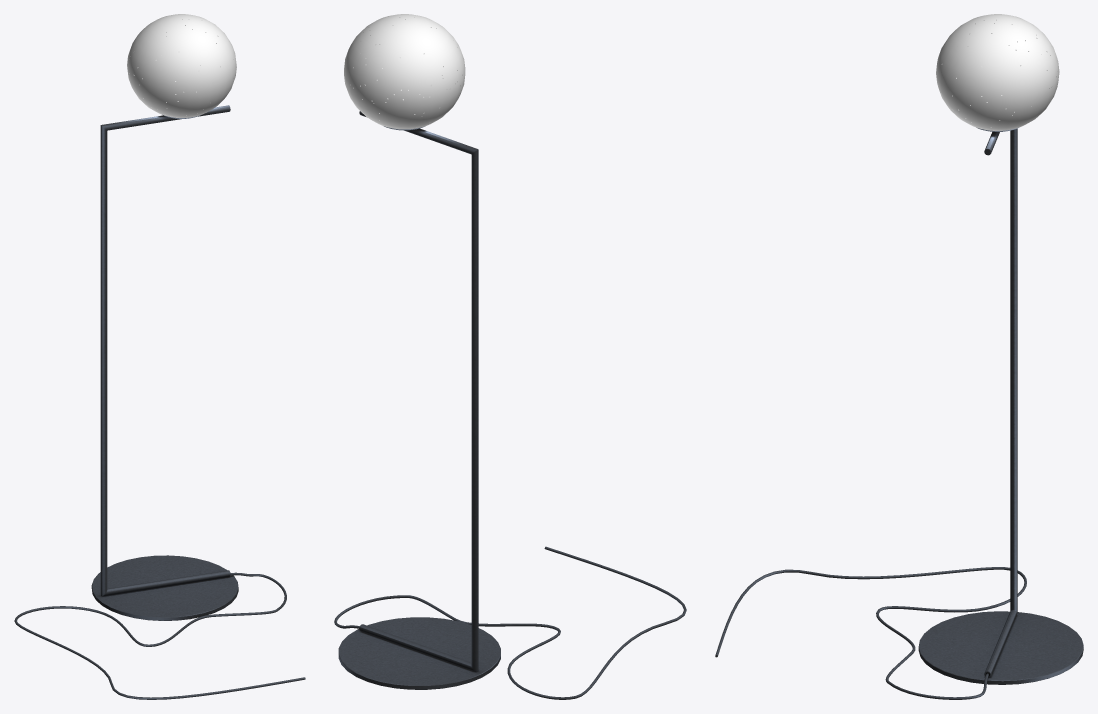
3 renders of one model, left to right at view 1: azimuth 30°, elevation 25°; view 2: azimuth 150°, elevation 25°; view 3: azimuth 270°, elevation 25°, orthographic. The views are drawn at different scales.
Visible parts, largest first — view 1: solid_001, glass_001; view 2: solid_001, glass_001; view 3: solid_001, glass_001.
Part boxes in pixels (box(x1,y1,x2,y2)): solid_001: box(14, 105, 305, 699); glass_001: box(127, 14, 236, 117); solid_001: box(334, 111, 686, 699); glass_001: box(344, 14, 465, 129); solid_001: box(715, 120, 1083, 699); glass_001: box(936, 14, 1059, 130).
Size of the model in its own units: 0.6883 by 1.56 by 0.8165.
1 material, 1 textured.
